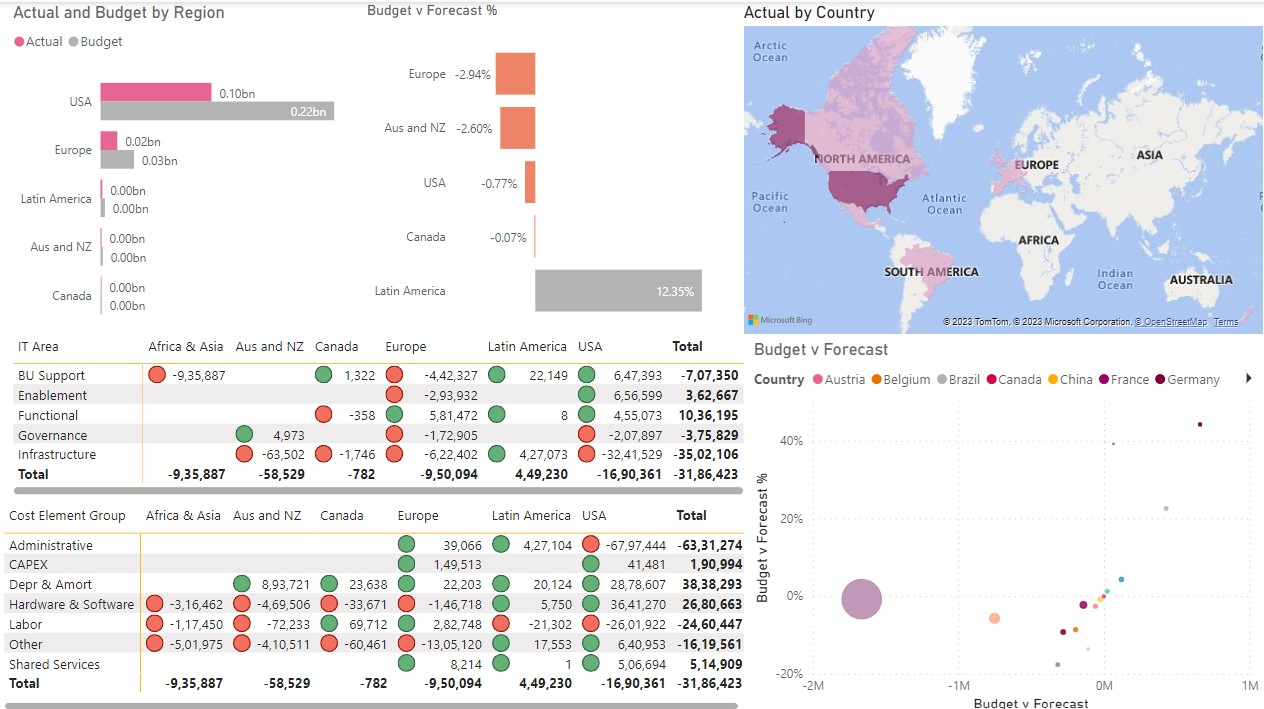

The dashboard page shown, as its layout file describes it:
{"tool":"powerbi","page":{"name":"Regions","canvas":[1280,720],"ordinal":1},"visuals":[{"type":"clusteredBarChart","fields":{"Category":["Regions.Region"],"Y":["Sum(Actuals.Actual)","Sum(Budget.Budget)"]},"box":[9.7,0,367.6,340.3],"z":0},{"type":"clusteredBarChart","title":"Budget v Forecast %","fields":{"Category":["Regions.Region"],"Y":["Budget.Budget v Forecast %"]},"box":[365.8,0,390.5,340.3],"z":1000},{"type":"pivotTable","fields":{"Rows":["Departments.IT Area"],"Columns":["Regions.Region"],"Values":["Budget.Budget v Forecast"]},"box":[9.7,331.5,746.7,171],"z":2000},{"type":"pivotTable","fields":{"Rows":["CostElements.Cost Element Group"],"Columns":["Regions.Region"],"Values":["Budget.Budget v Forecast"]},"box":[0,502.5,756.4,217.7],"z":3000},{"type":"filledMap","fields":{"Category":["Actuals.Country"]},"box":[745.8,0,534.2,340.3],"z":4000},{"type":"scatterChart","title":"Budget v Forecast","fields":{"Series":["Regions.Country"],"X":["Budget.Budget v Forecast"],"Y":["Budget.Budget v Forecast %"],"Size":["Sum(Forecast.Forecast)"]},"box":[756.4,340.3,523.6,379.9],"z":5000}]}

Visuals, with their boxes in screenshot pixels (x1, y1, x2, y2), scaled from the page's 1280x720 canvas onto the 1264x709 screenshot:
clusteredBarChart - Regions.Region x Sum(Actuals.Actual): 10 0 373 335
"Budget v Forecast %" clusteredBarChart: 361 0 747 335
pivotTable - Departments.IT Area x Regions.Region: 10 326 747 495
pivotTable - CostElements.Cost Element Group x Regions.Region: 0 495 747 708
filledMap - Actuals.Country: 736 0 1263 335
"Budget v Forecast" scatterChart: 747 335 1263 708
